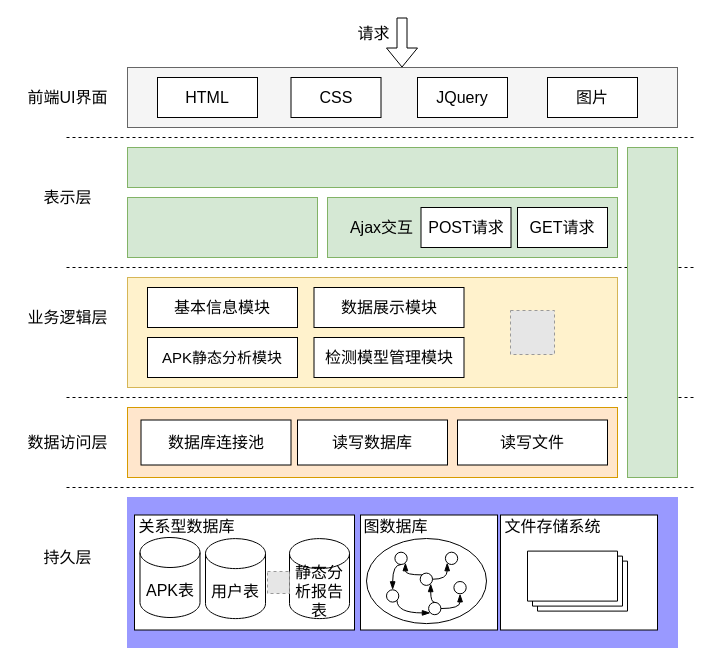
The diagram is 715 pixels wide and 665 high, and some of its shapes have lost their labels. Grey dashed boxes stand in for pictures. Each missing label, with the centre of its shape:
"RESTFUL接口" belongs at point 372,167.
"文件" belongs at point 577,580.
"权 限 控 制" belongs at point 652,312.
"模板引擎渲染" belongs at point 222,227.
